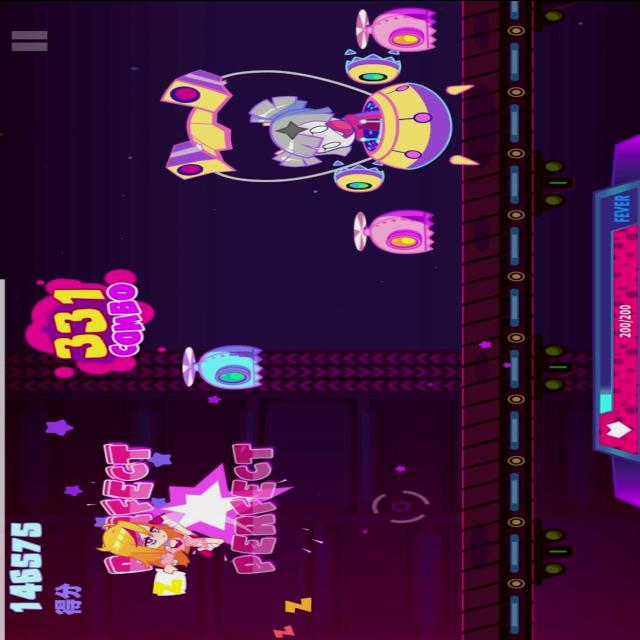cheboss: (151, 48, 479, 191)
jiqiqiu: (348, 2, 439, 50), (178, 341, 268, 389), (345, 206, 436, 252)
